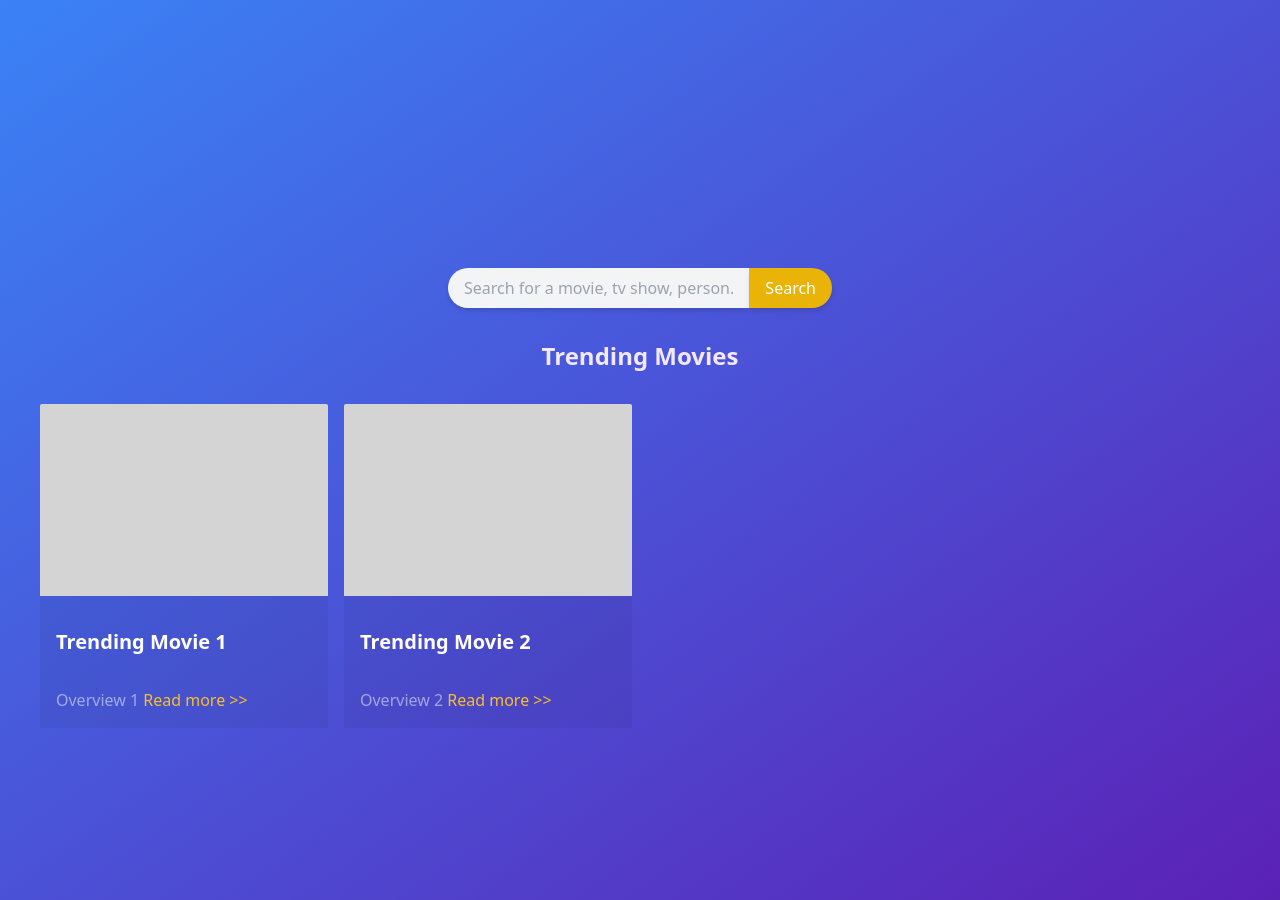
App › should not perform search when search string is empty
Click the button "Search" at (791, 288), box [749,268,832,308]
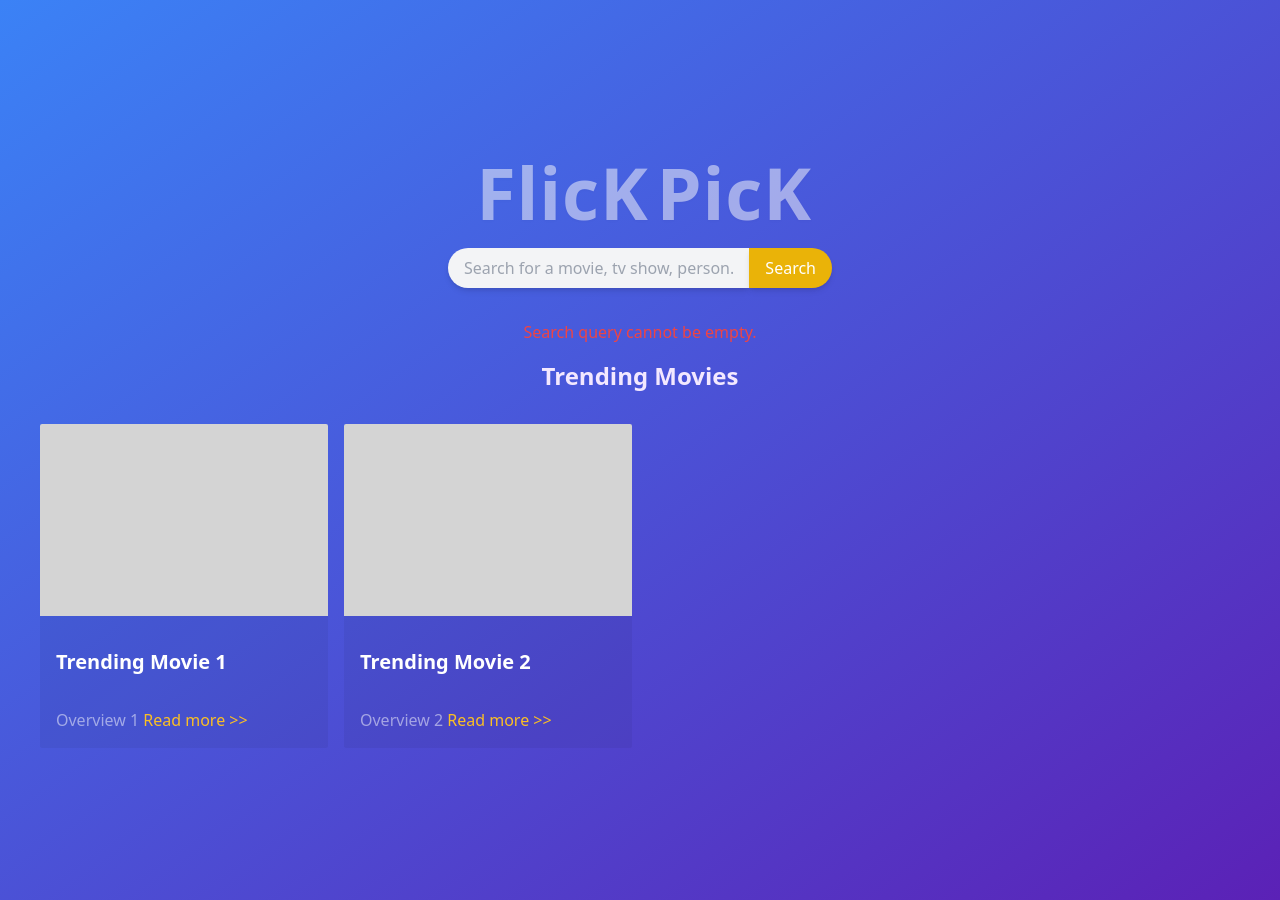
Check: the text "Search query cannot be empty." is shown, box [524,320,756,344]
